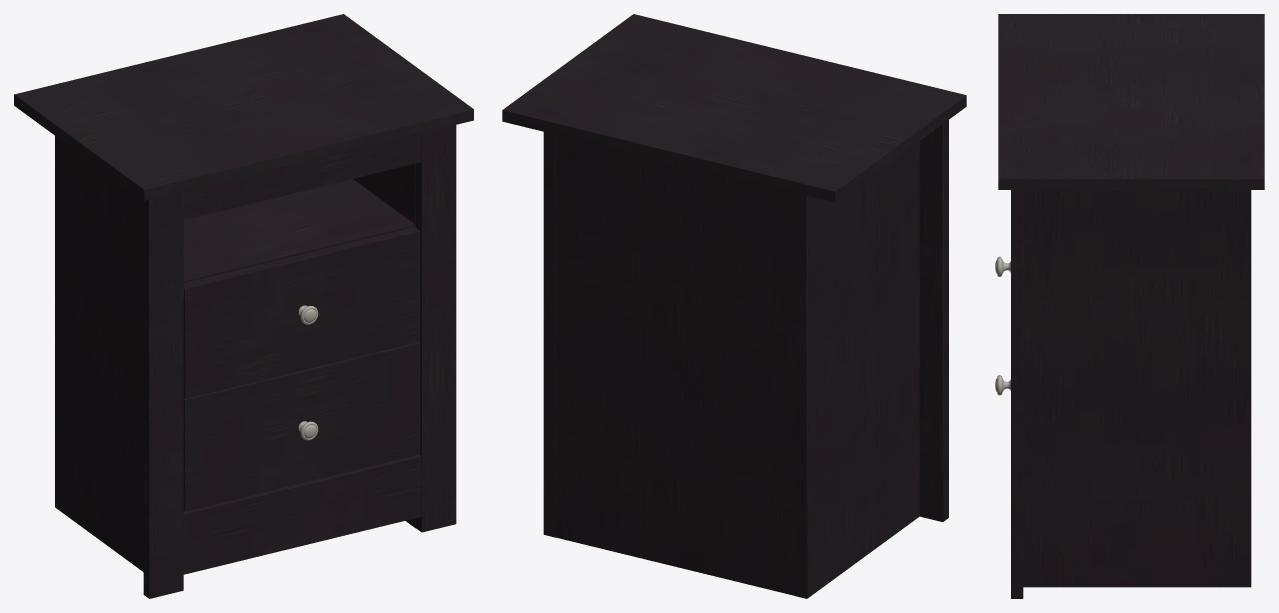
Rendered from B07NRQVY26.glb.
The picture shows the model from 3 angles, left to right: view 1: azimuth 30°, elevation 25°; view 2: azimuth 150°, elevation 25°; view 3: azimuth 270°, elevation 25°; orthographic projection. The views are drawn at different scales.
Visible parts, largest first — view 1: RootNode; view 2: RootNode; view 3: RootNode.
Part boxes in pixels (x1=…): RootNode: x1=14, y1=14, x2=473, y2=598; RootNode: x1=502, y1=14, x2=966, y2=598; RootNode: x1=995, y1=14, x2=1264, y2=598.
Size of the model in its own units: 0.5892 by 0.7112 by 0.4077.
1 material, 1 textured.
